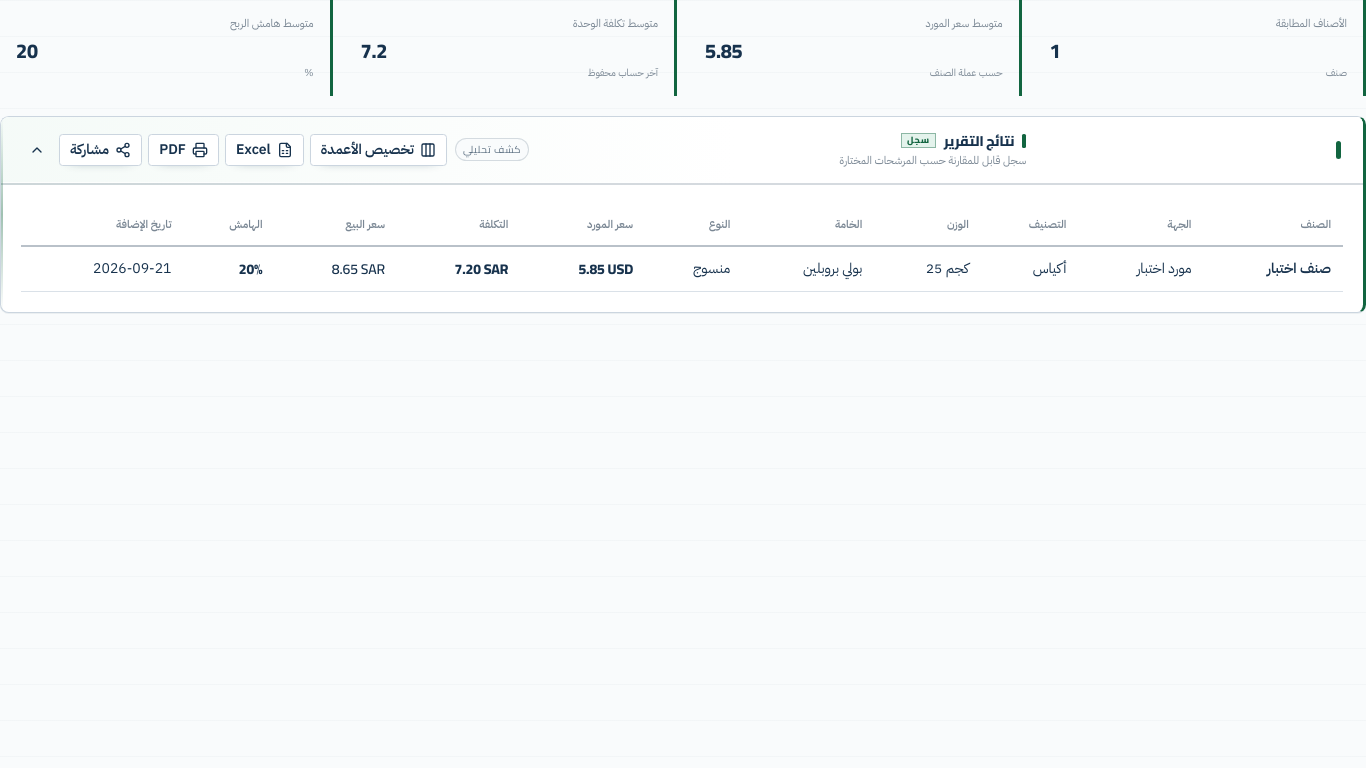
Test: تخصيص أعمدة تحليل الأصناف › يخفي التكلفة من الشاشة وبطاقة المتوسط ويتذكر الاختيار
Step 1. Click the button "تخصيص الأعمدة" → {"x": 378, "y": 150}, box [310,134,447,166]
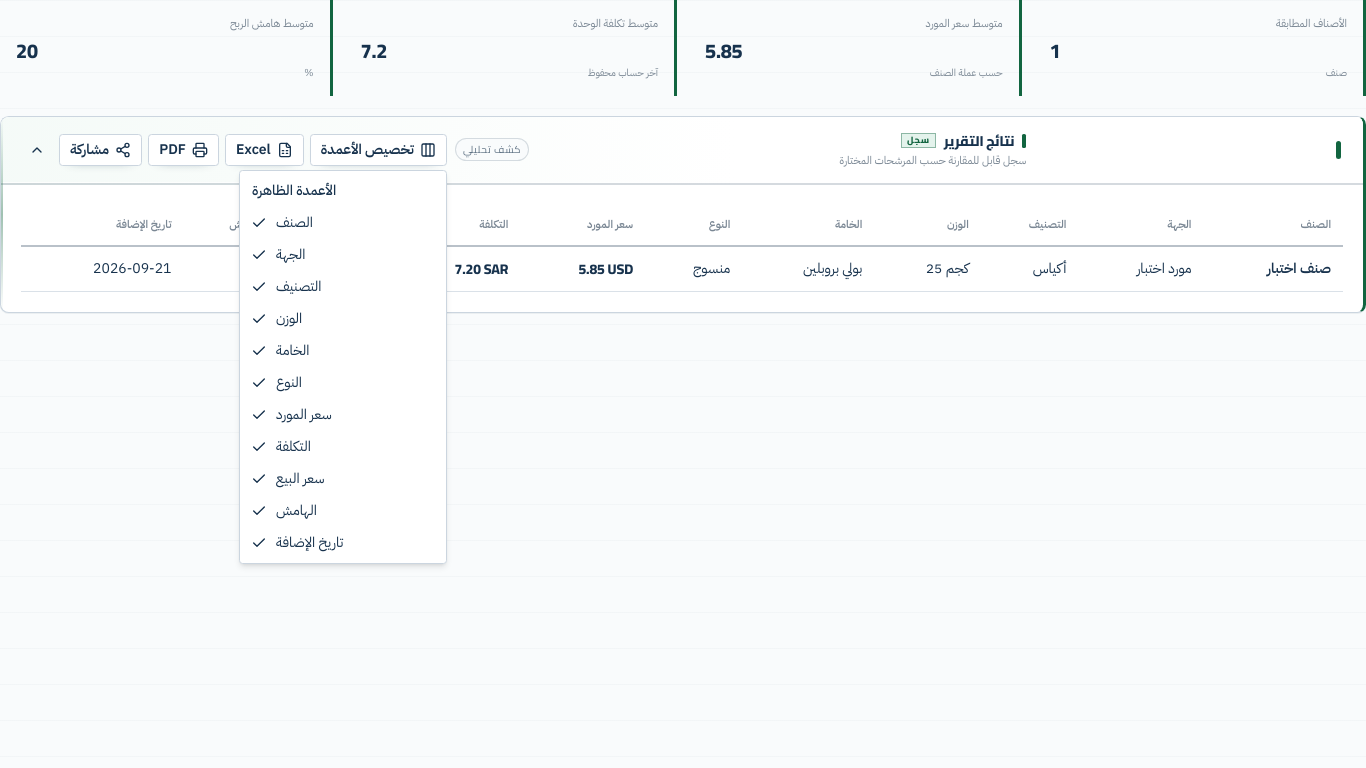
Step 2. Click the menu item "التكلفة" → {"x": 281, "y": 446}, box [251,436,311,457]
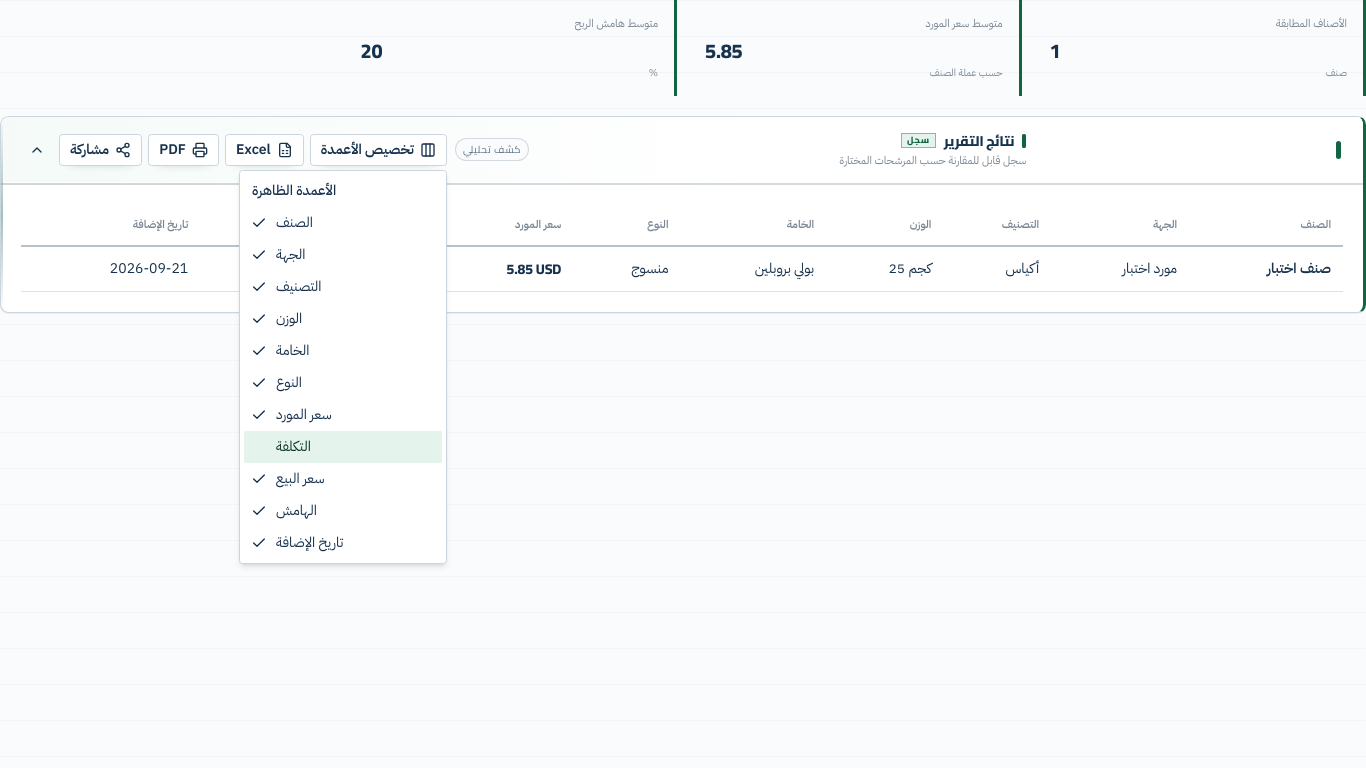
Now the text "متوسط تكلفة الوحدة" is gone
